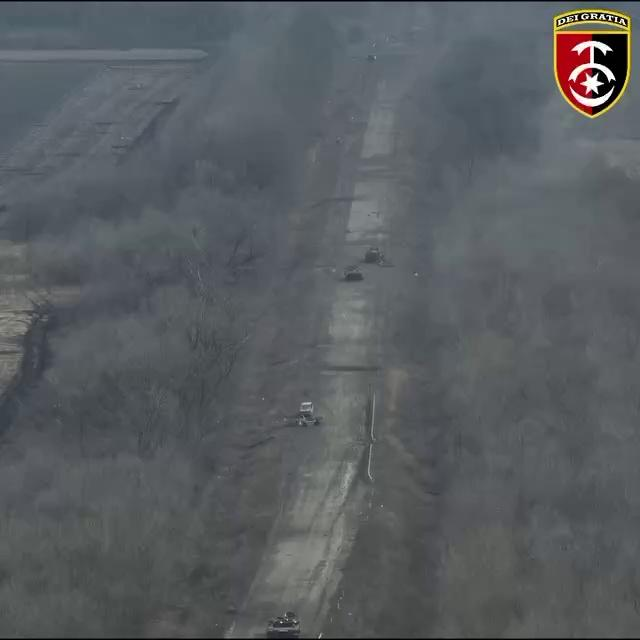vehicle: (266, 611, 302, 639), (344, 266, 364, 282), (365, 247, 382, 263), (300, 401, 314, 416), (367, 54, 378, 62)
